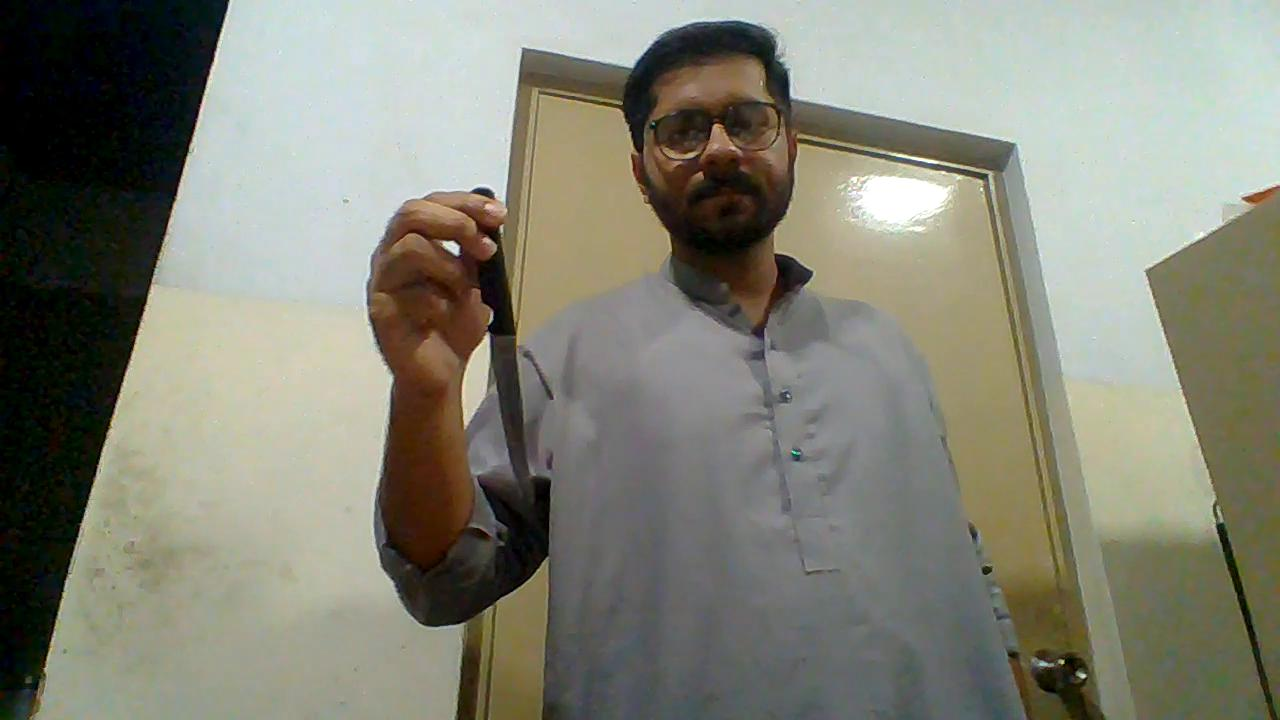criminal: (366, 19, 1036, 720)
weapon: (464, 184, 545, 506)
